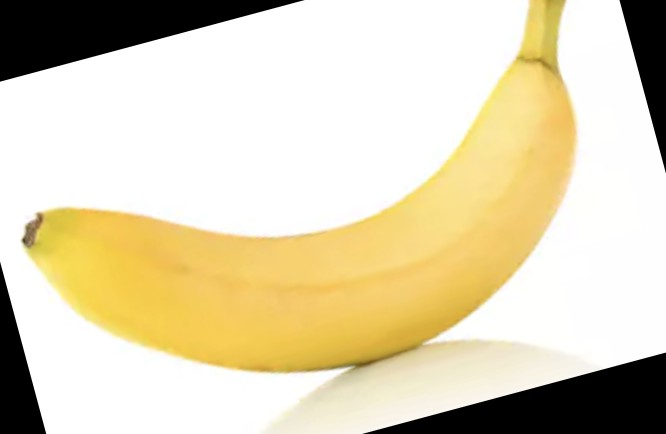fresh_banana: (24, 1, 576, 370)
